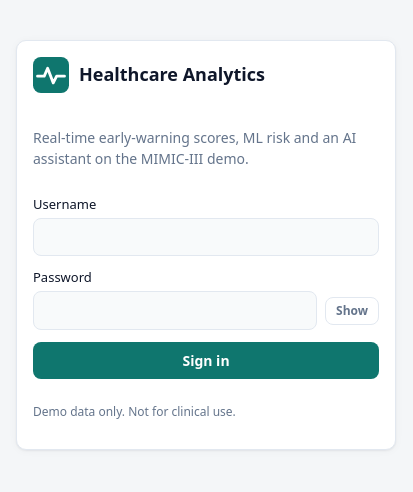
LoginPage › shows the server's error message on bad credentials
The image size is (413, 492).
Step 1. Type "nikhil" into the field labelled "Username" → x=206, y=237, box [33,218,379,256]
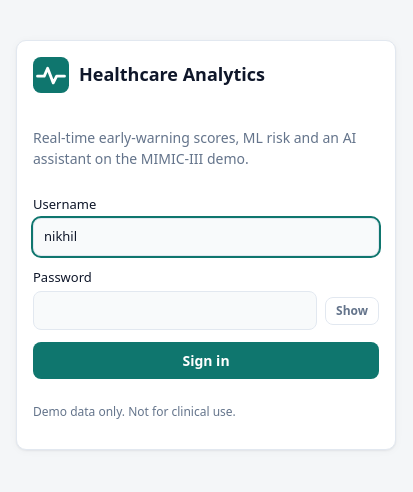
Step 2. Type "wrong" into the password field labelled "Password" → x=175, y=311, box [33,291,317,330]
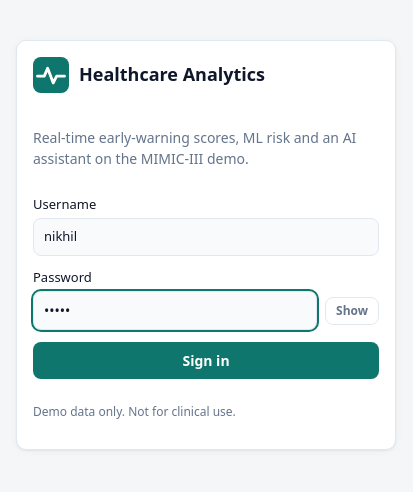
Step 3. Click the button "Sign in" → x=206, y=361, box [33,342,379,379]
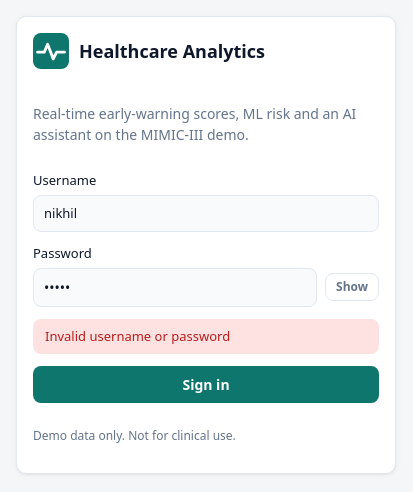
Expected: the message reads "Invalid username or password", [45,326,230,344]
